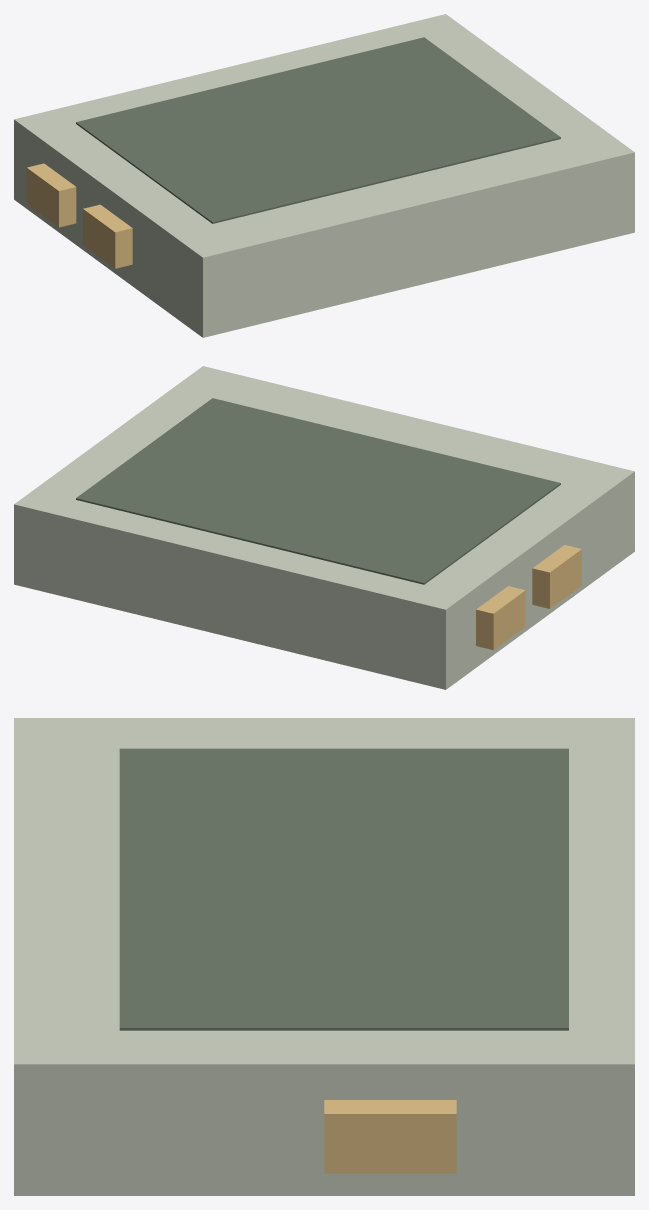
File: demo-case.glb
3 views of the same model, one above another, from view 1: azimuth 30°, elevation 25°; view 2: azimuth 150°, elevation 25°; view 3: azimuth 270°, elevation 25° (orthographic). The views are drawn at different scales.
Bounding box in the file's own units: 67 × 13.18 × 47.
